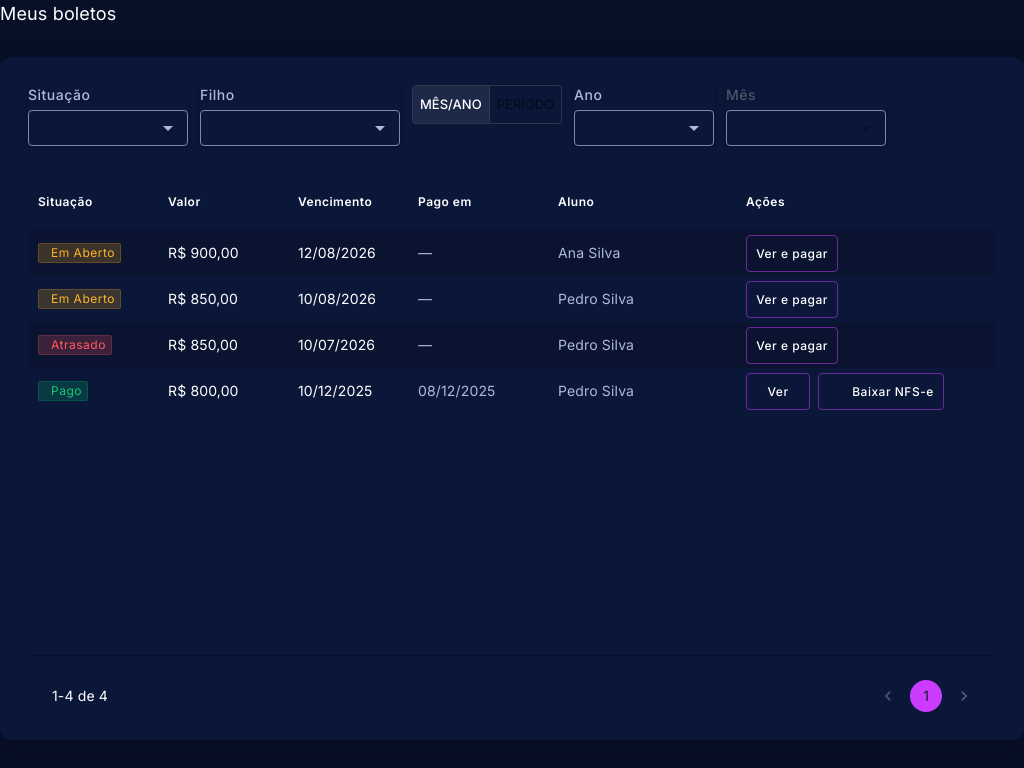
it: MyCharges › shows a filtered empty state when the range matches nothing
Click the button "Período".
click(525, 104)  # box x1=489 y1=85 x2=562 y2=124
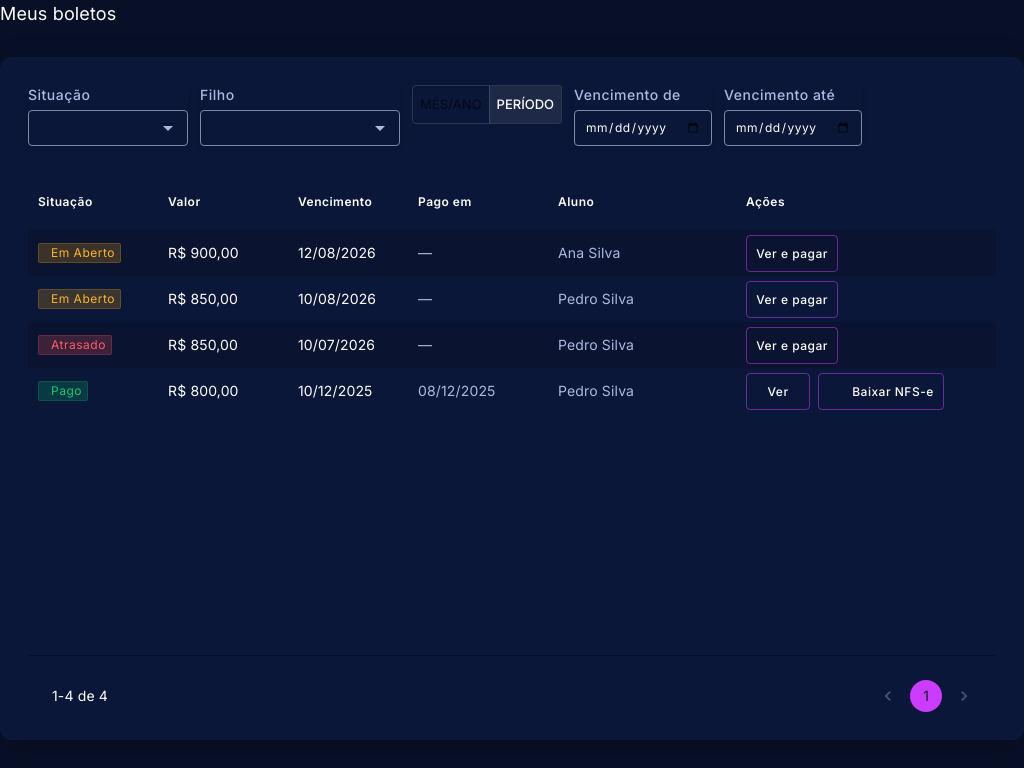
Type "2030-01-01" into the date field labelled "Vencimento de".
click(643, 128); type("2030-01-01")  # box x1=585 y1=119 x2=701 y2=137
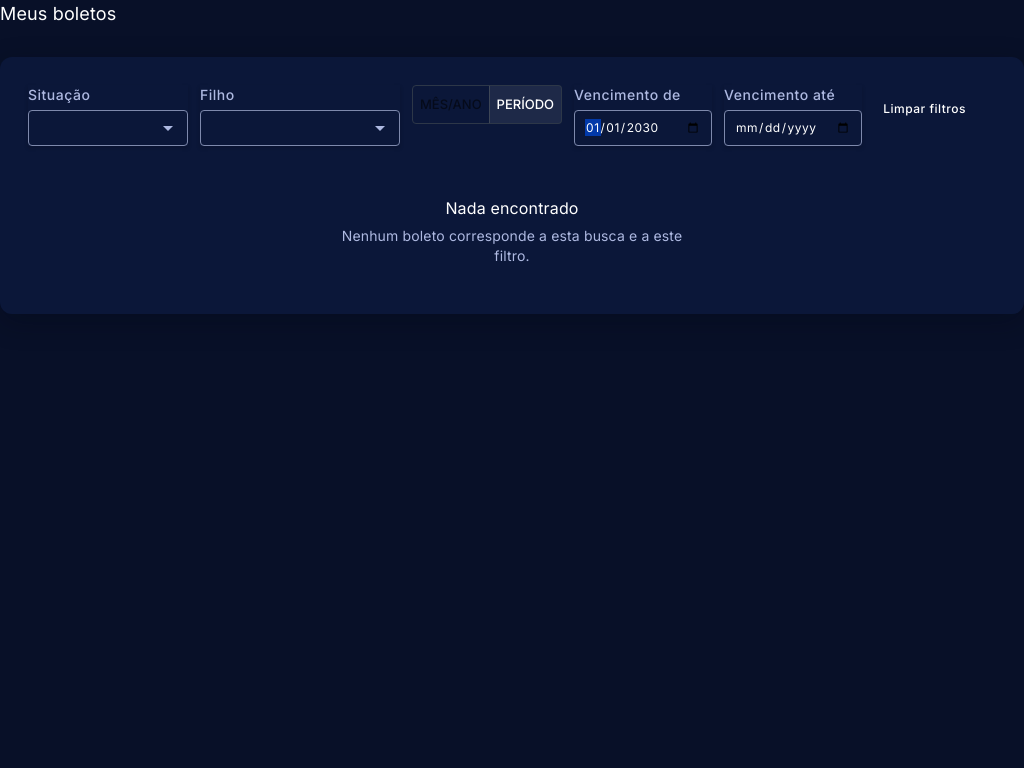
Now the heading "Nada encontrado" is shown, box x1=445 y1=194 x2=579 y2=222
